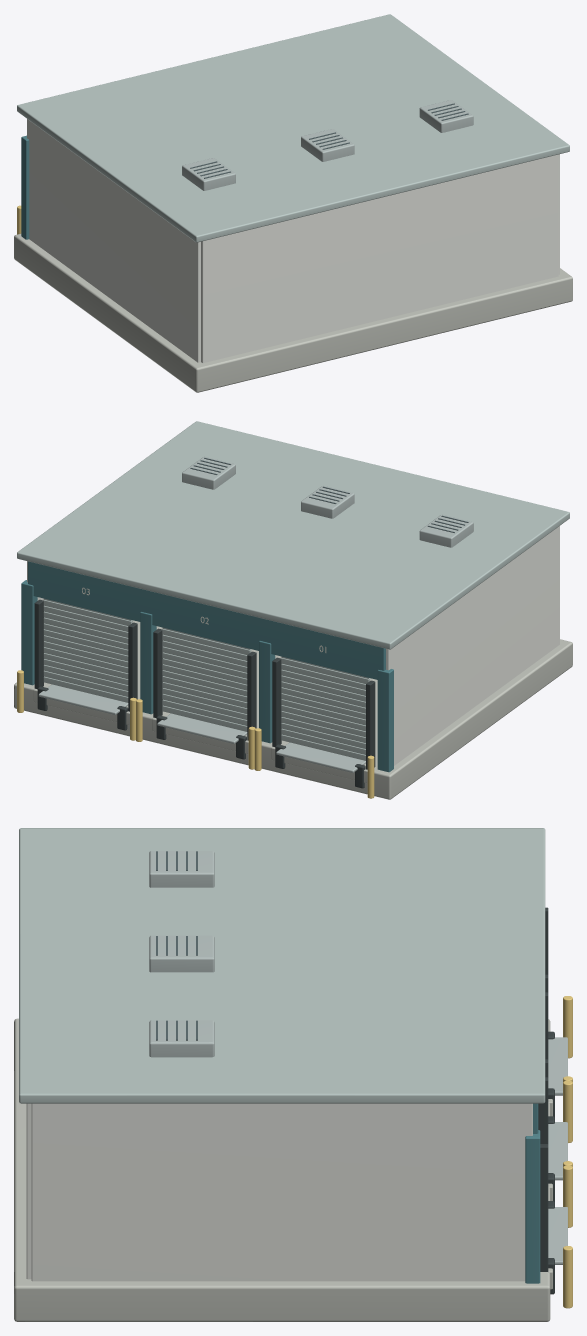
Rendered from warehouse.glb.
The picture shows the model from 3 angles, top to bottom: view 1: azimuth 30°, elevation 25°; view 2: azimuth 150°, elevation 25°; view 3: azimuth 270°, elevation 25°; orthographic projection. The views are drawn at different scales.
Visible parts, largest first — view 1: roof, rear, side, slab, roof-vent.002, roof-vent.001, roof-vent, front-pillar; view 2: roof, side, upper-front, slab, front-pillar, front-pillar.003, front-pillar.002, front-pillar.001, dock-leveler.001, dock-leveler, dock-leveler.002, roof-vent (+53 smaller); view 3: roof, side.001, slab, front-pillar.003, roof-vent.002, roof-vent.001, roof-vent, dock-seal.005, rear, dock-leveler, dock-leveler.001, dock-leveler.002 (+1 smaller).
Part boxes in pixels (left/top/right/bottom): roof: left=17, top=14, right=569, bottom=242; rear: left=201, top=154, right=558, bottom=363; side: left=27, top=119, right=200, bottom=362; slab: left=14, top=233, right=572, bottom=392; roof-vent.002: left=419, top=100, right=473, bottom=132; roof-vent.001: left=301, top=129, right=354, bottom=161; roof-vent: left=182, top=158, right=235, bottom=190; front-pillar: left=21, top=135, right=29, bottom=239; roof: left=17, top=421, right=569, bottom=649; side: left=386, top=526, right=559, bottom=765; upper-front: left=28, top=561, right=385, bottom=679; slab: left=14, top=620, right=572, bottom=799; front-pillar: left=377, top=669, right=393, bottom=772; front-pillar.003: left=21, top=580, right=37, bottom=685; front-pillar.002: left=140, top=612, right=156, bottom=714; front-pillar.001: left=259, top=641, right=275, bottom=743; dock-leveler.001: left=157, top=713, right=247, bottom=743; dock-leveler: left=276, top=742, right=365, bottom=772; dock-leveler.002: left=38, top=684, right=128, bottom=714; roof-vent: left=419, top=514, right=473, bottom=547; roof: left=19, top=828, right=545, bottom=1103; side.001: left=31, top=1103, right=532, bottom=1281; slab: left=14, top=1018, right=550, bottom=1321; front-pillar.003: left=525, top=1130, right=540, bottom=1283; roof-vent.002: left=149, top=1020, right=214, bottom=1057; roof-vent.001: left=149, top=935, right=214, bottom=972; roof-vent: left=149, top=851, right=214, bottom=887; dock-seal.005: left=540, top=1144, right=548, bottom=1271; rear: left=26, top=1103, right=31, bottom=1279; dock-leveler: left=548, top=1037, right=567, bottom=1095; dock-leveler.001: left=548, top=1122, right=567, bottom=1180; dock-leveler.002: left=548, top=1207, right=567, bottom=1264.
Bounding box in the file's own units: 12.7 × 5.35 × 11.15.
